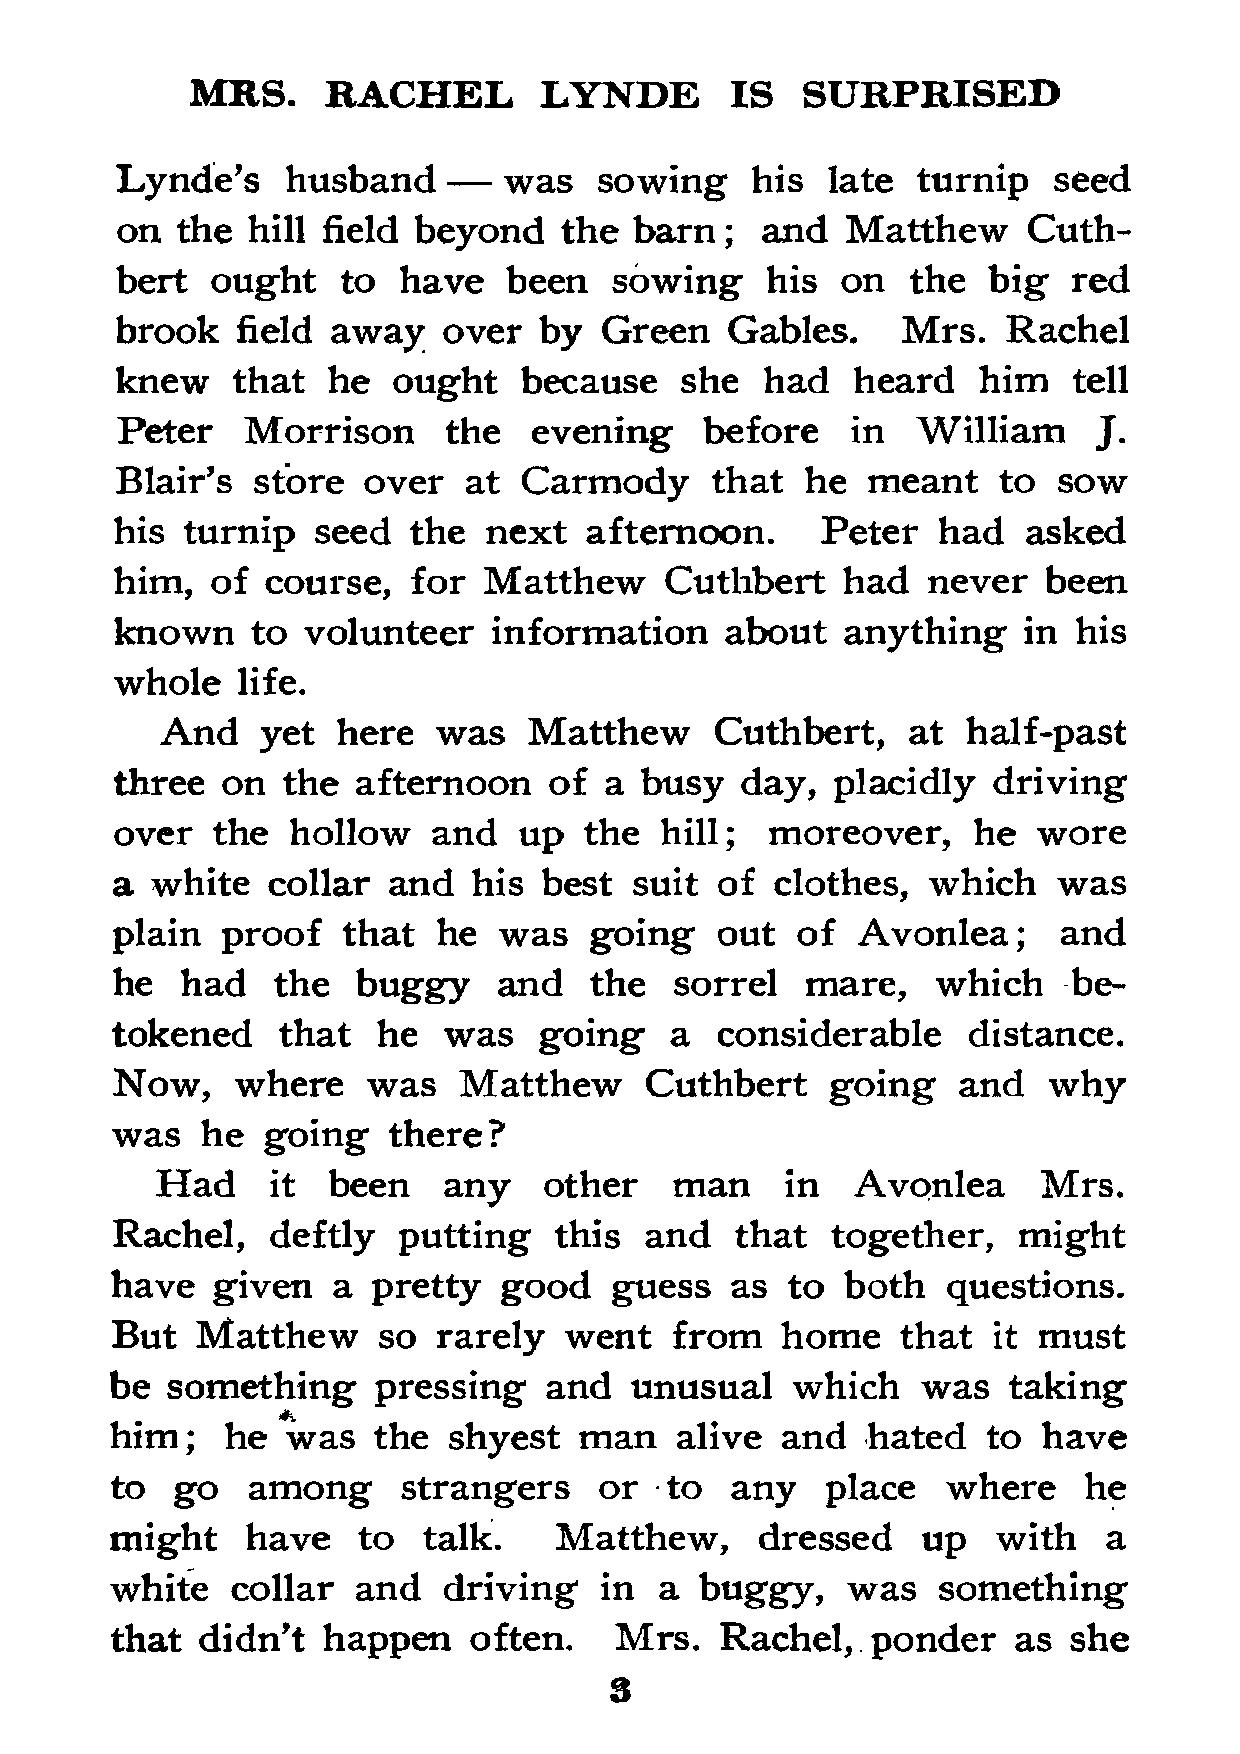chapter: (178, 72, 1060, 110)
content: (107, 157, 1133, 1660)
content_pagenumber: (603, 1676, 635, 1706)
